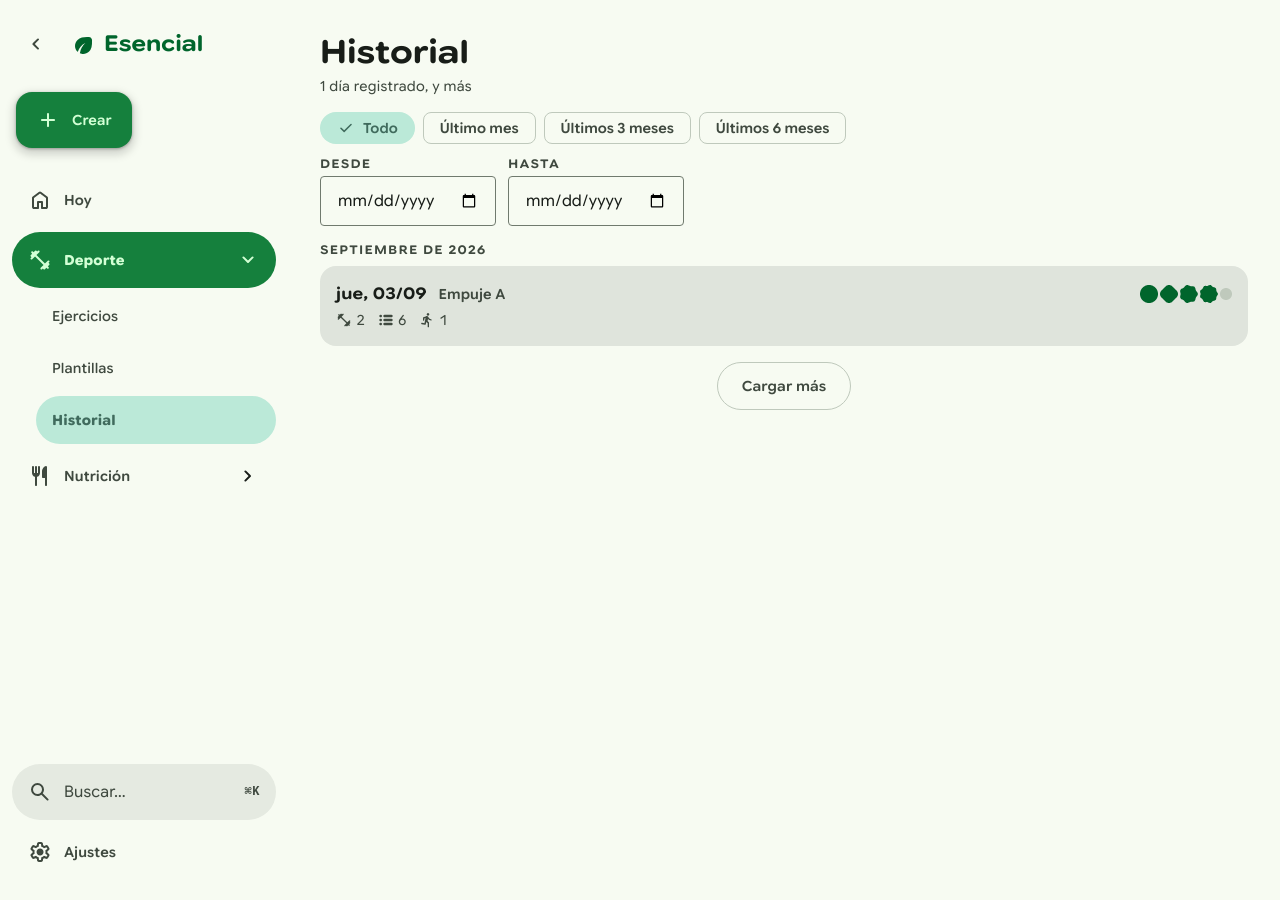
/historial › «Cargar más» pide la página siguiente con before y la añade
The width and height of the screenshot is (1280, 900).
Click the button "Cargar más".
click(784, 386)  # box top-left (717, 362), bottom-right (851, 410)
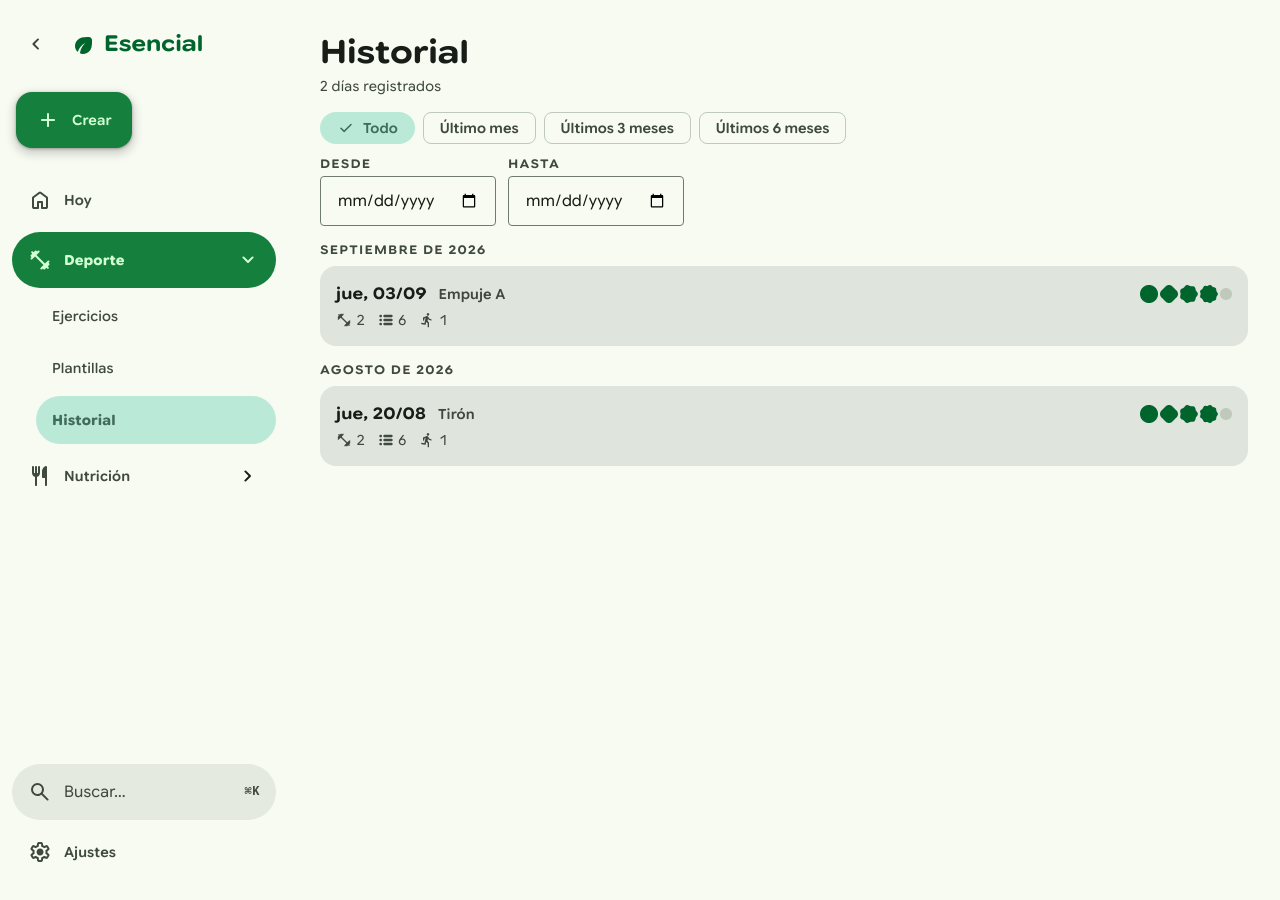
Expected: the link "jue, 20/08 Tirón 2 6 1" is shown, top-left (320, 386), bottom-right (1248, 466)
Expected: the button "Cargar más" is gone
